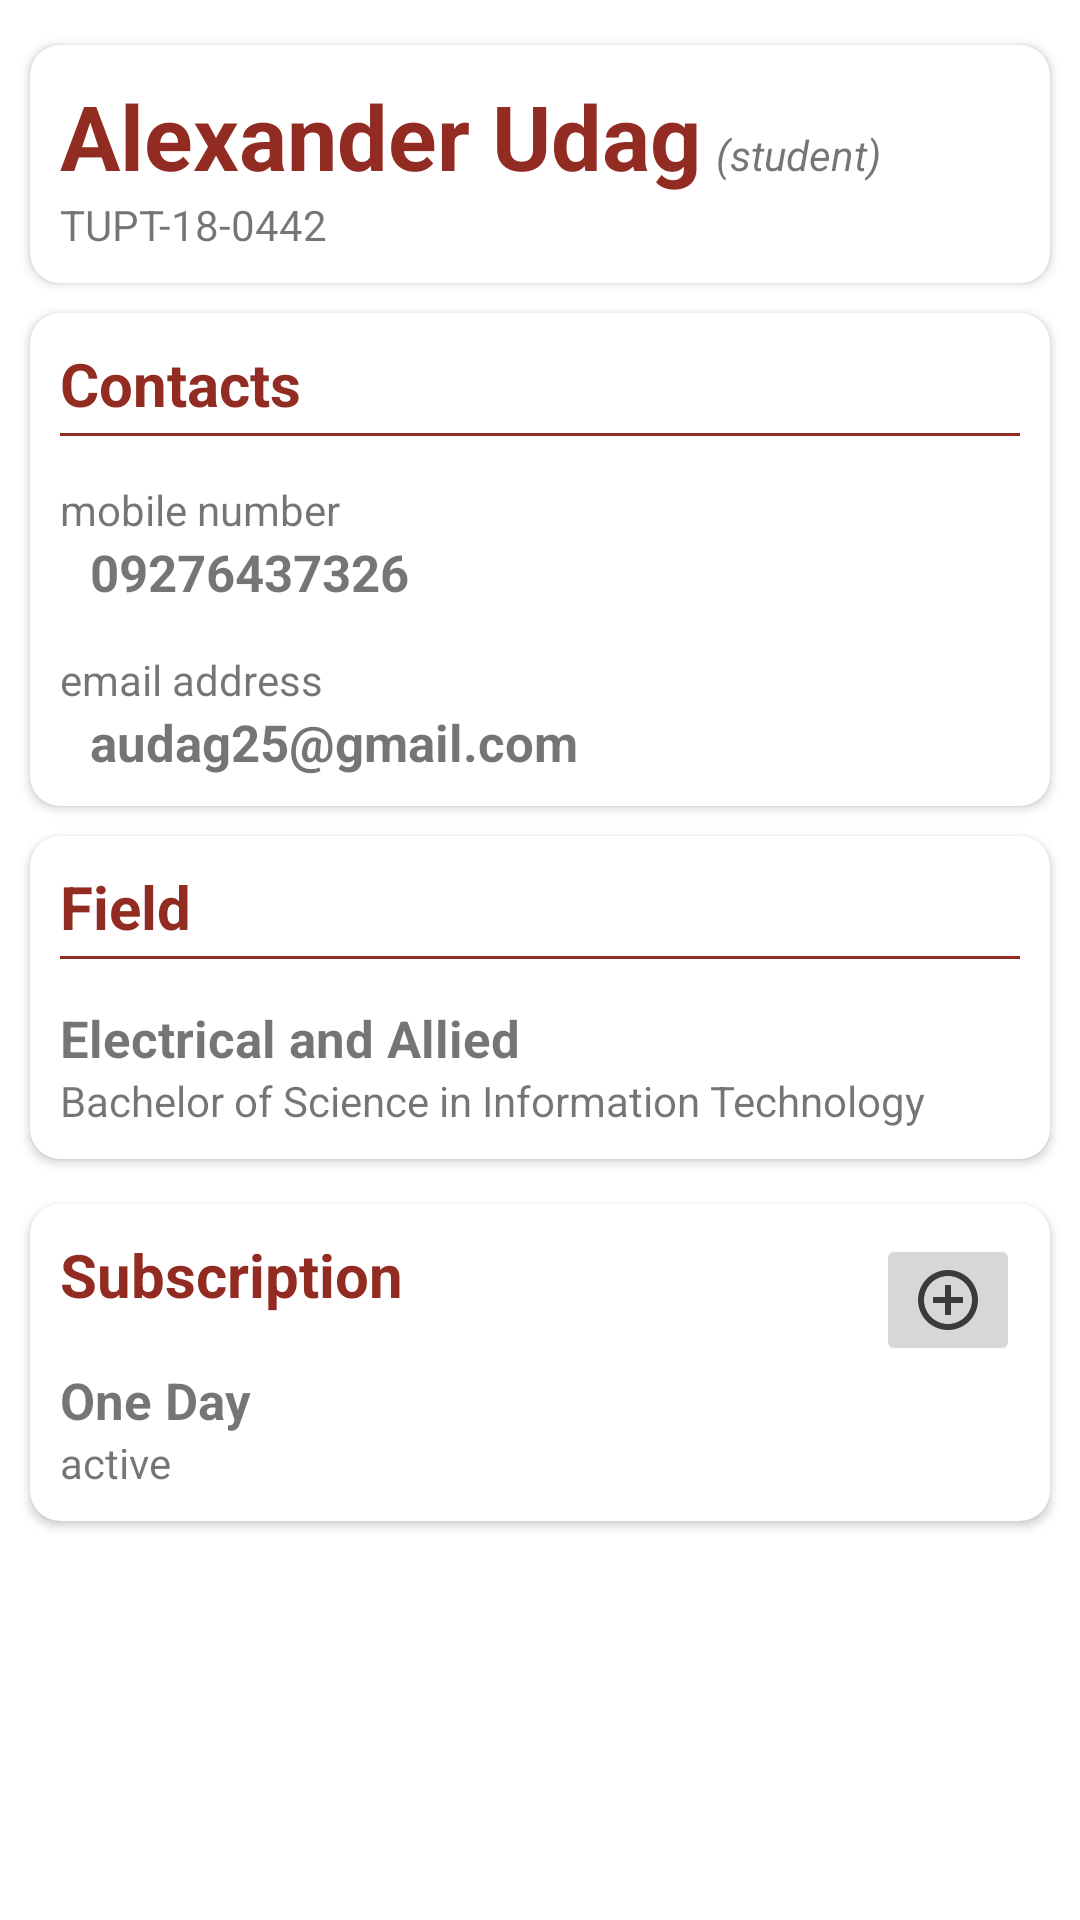

Screen size 1080 × 1920. Icon name, then its center in pixels as [x,y]:
add circle: [948,1300]
